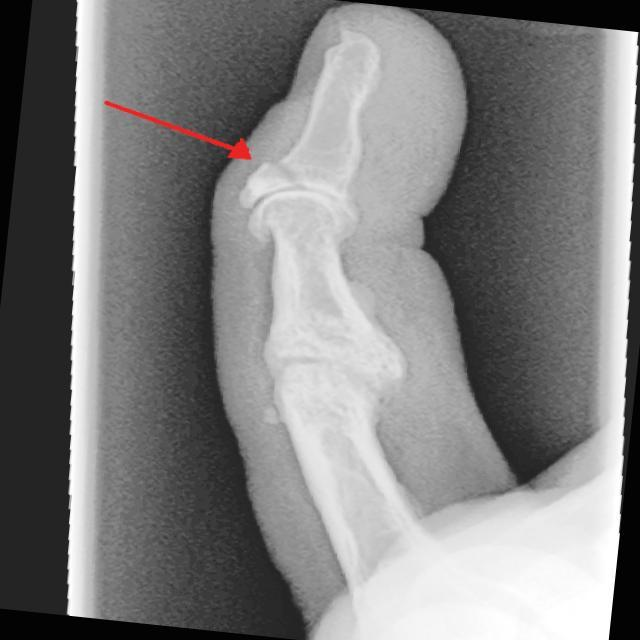Avlusion Fracture: (222, 143, 295, 205)
